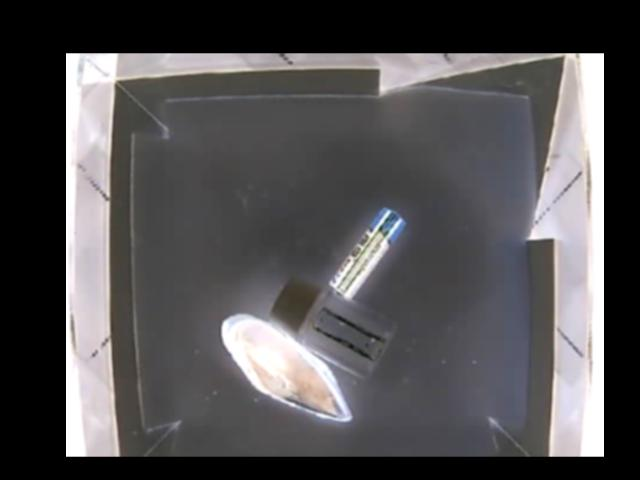Battery: (335, 206, 407, 297)
Bottle: (271, 278, 400, 376)
Shell: (220, 307, 354, 422)
